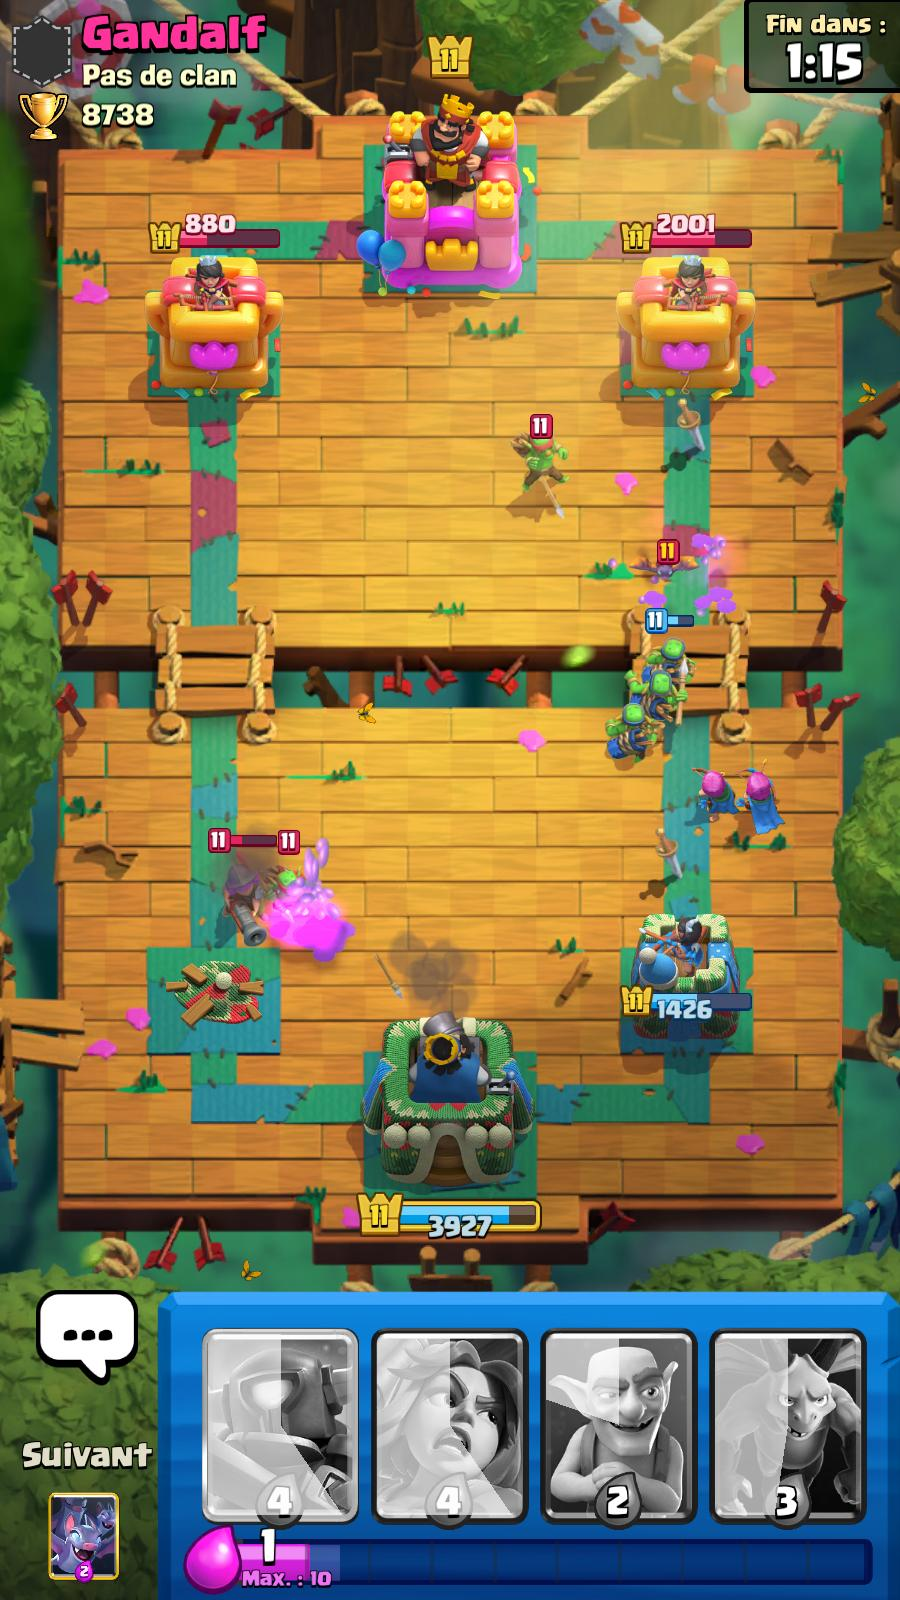archere: (734, 755, 787, 841), (688, 758, 740, 816)
bat: (634, 536, 700, 585)
gobelin_lances: (622, 659, 697, 732), (638, 607, 696, 698), (512, 409, 576, 488), (604, 699, 668, 764), (269, 830, 314, 916)
mousquetaire: (208, 827, 280, 951)
